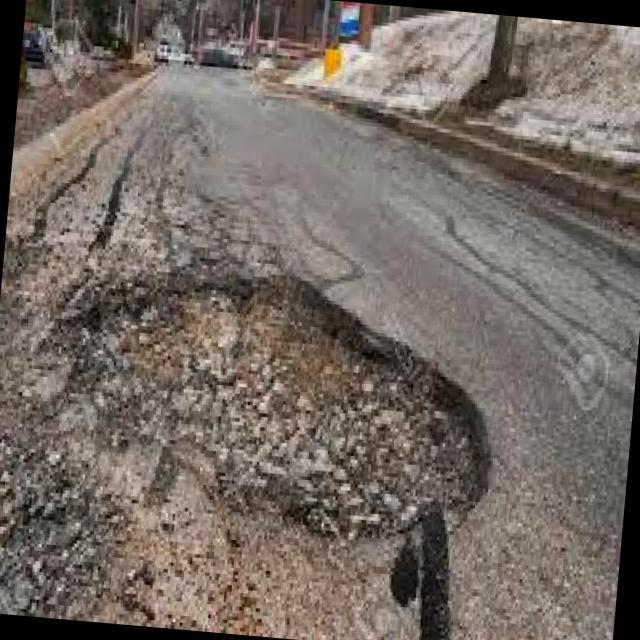Pothole: (91, 277, 479, 562)
